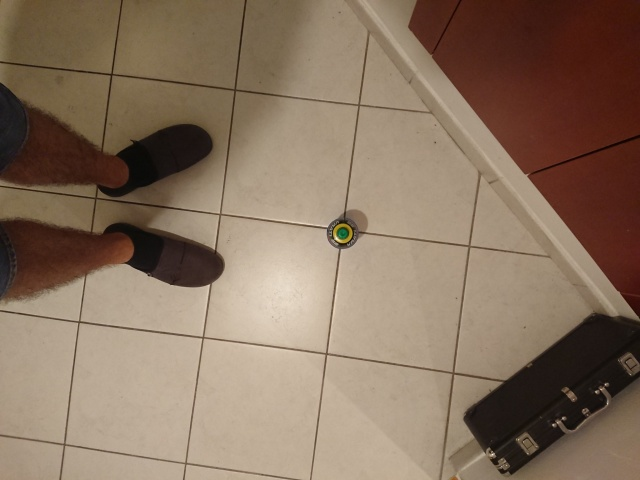Vindi Iso Sport Forest Strawberries 500mL: (326, 217, 360, 250)
